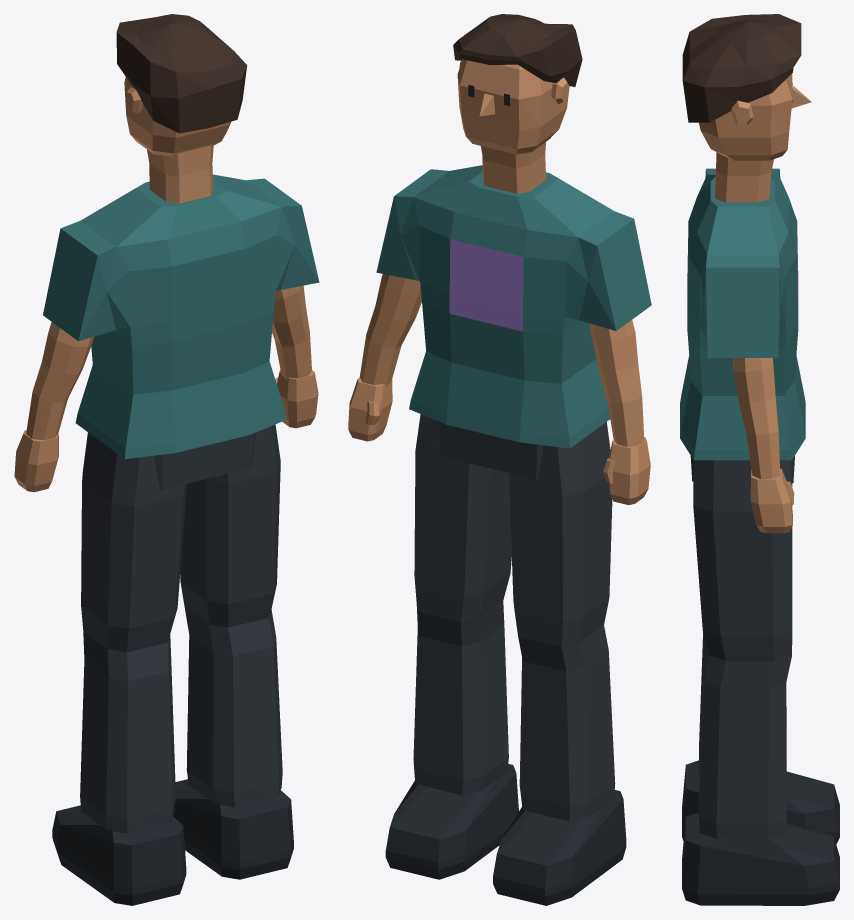
The model's file is lwf_performer_male_body_v1.glb.
The picture shows the model from 3 angles, left to right: view 1: azimuth 30°, elevation 25°; view 2: azimuth 150°, elevation 25°; view 3: azimuth 270°, elevation 25°; orthographic projection.
Visible parts, largest first — view 1: LWF_Performer_BodyCore, LWF_Performer_IdleLeftArm, LWF_Performer_IdleRightArm; view 2: LWF_Performer_BodyCore, LWF_Performer_IdleLeftArm, LWF_Performer_IdleRightArm; view 3: LWF_Performer_BodyCore, LWF_Performer_IdleRightArm.
Part boxes in pixels (x1,y1,x2,y2): LWF_Performer_BodyCore: (43,14,319,905); LWF_Performer_IdleLeftArm: (14,322,93,492); LWF_Performer_IdleRightArm: (272,285,318,428); LWF_Performer_BodyCore: (376,14,651,905); LWF_Performer_IdleLeftArm: (589,320,650,505); LWF_Performer_IdleRightArm: (348,274,421,441); LWF_Performer_BodyCore: (680,14,839,905); LWF_Performer_IdleRightArm: (733,358,794,533).
Size of the model in its own units: 0.632 by 1.75 by 0.303.
Materials: 1 (1 with a texture image).
